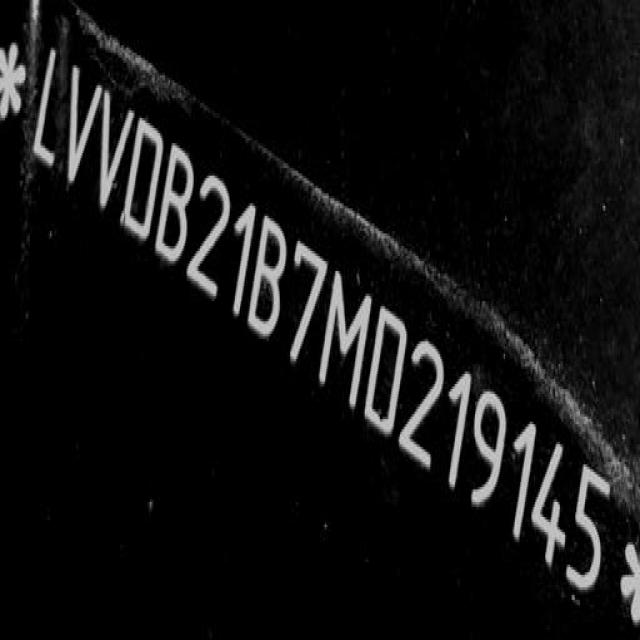0: (361, 293, 419, 451)
1: (498, 403, 545, 554), (435, 354, 480, 506), (219, 193, 264, 334)
2: (394, 323, 454, 482), (186, 160, 241, 316)
4: (523, 428, 583, 578)
5: (561, 453, 622, 604)
7: (279, 232, 338, 388)
9: (457, 377, 519, 524)
B: (243, 201, 299, 349), (150, 134, 202, 279)
D: (116, 105, 172, 254)
L: (28, 27, 82, 184)
M: (315, 261, 380, 419)
V: (82, 72, 145, 237), (67, 62, 101, 192)
